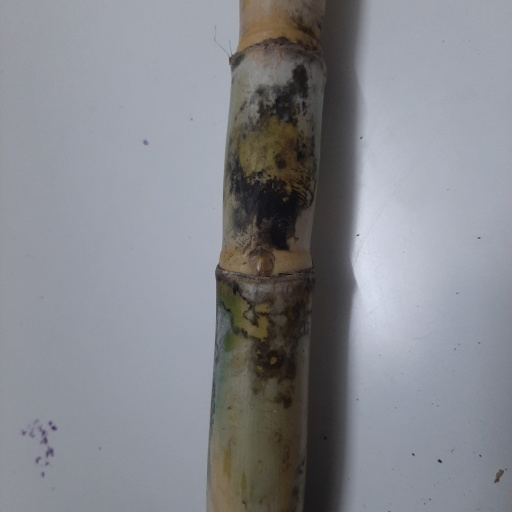Bud: (249, 253, 273, 277)
